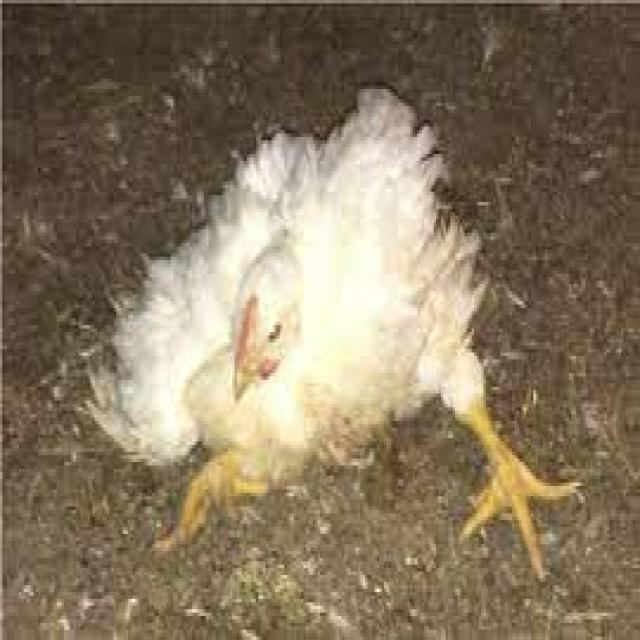AbNormal: (86, 85, 581, 587)
